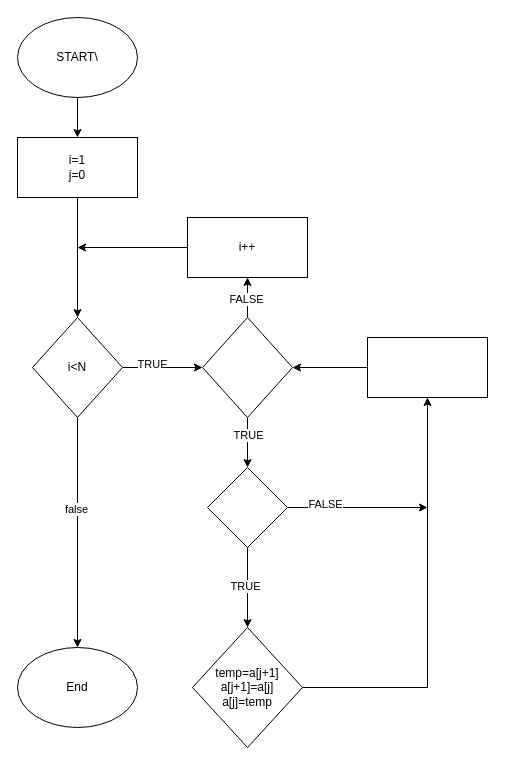
This 505x765 diagram has some shape labels left out. Each missing label, with the centre of its shape:
a[j]>a[j+1]: the point at 247,507
j++: the point at 427,367
j<N-2: the point at 247,367
